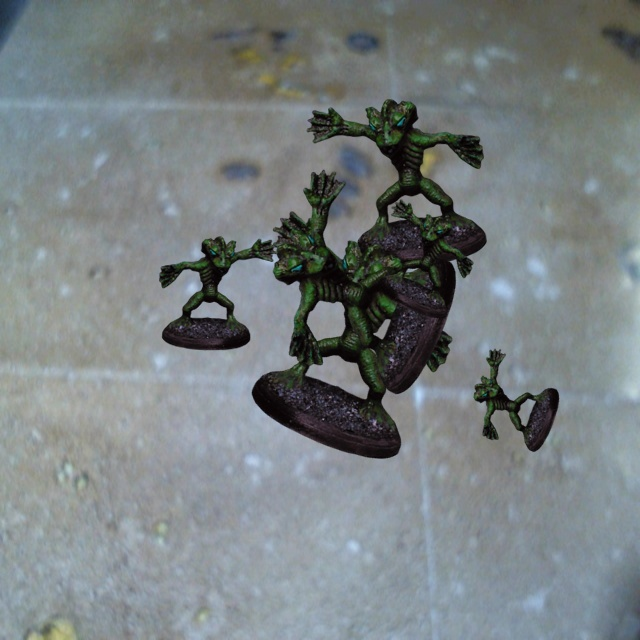pieza_juego: (252, 211, 451, 458), (273, 170, 455, 393), (306, 99, 486, 267), (159, 236, 276, 349), (378, 199, 473, 317), (473, 349, 558, 451)
